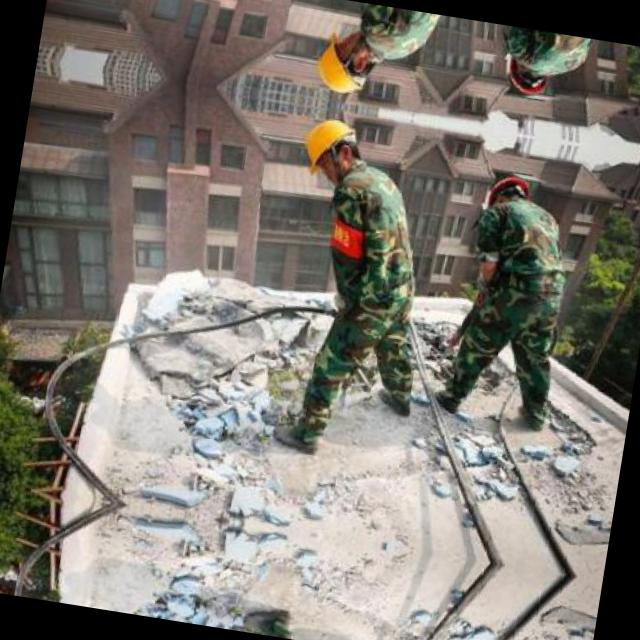helmet: (297, 108, 367, 184), (310, 30, 380, 104), (482, 168, 540, 214), (500, 56, 558, 102)
